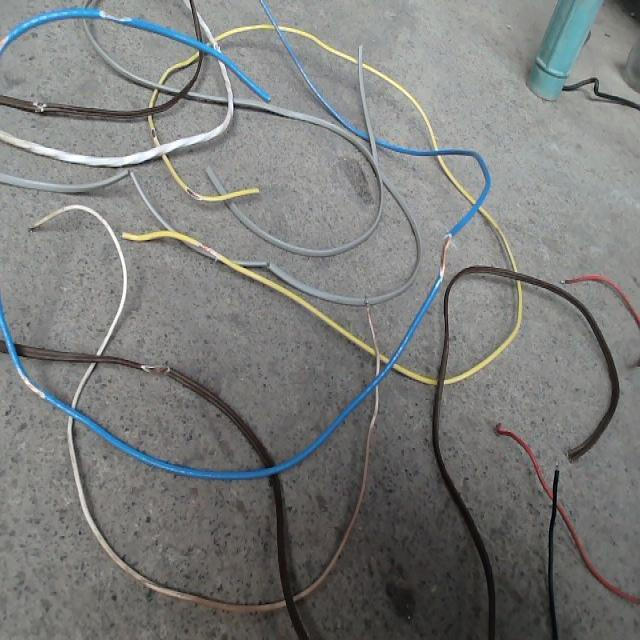-: (17, 370, 45, 398), (437, 232, 451, 279), (140, 361, 169, 375), (196, 242, 220, 258), (184, 185, 200, 199), (33, 100, 46, 112), (150, 126, 156, 138)
